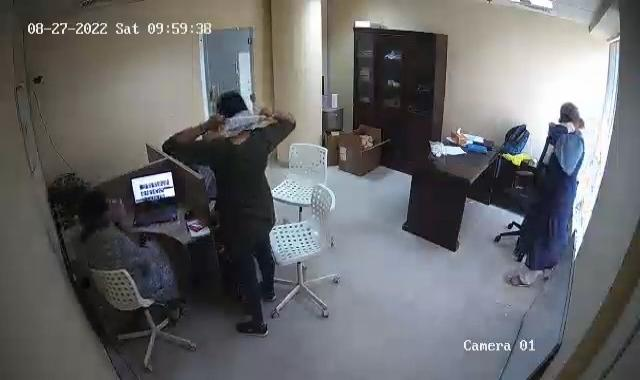hairnet: (553, 100, 586, 134)
no_hairnet: (215, 82, 257, 126)
